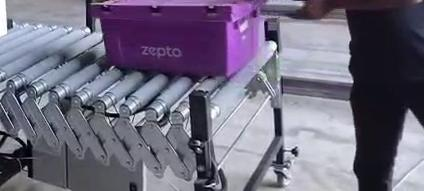box: (91, 0, 266, 76)
